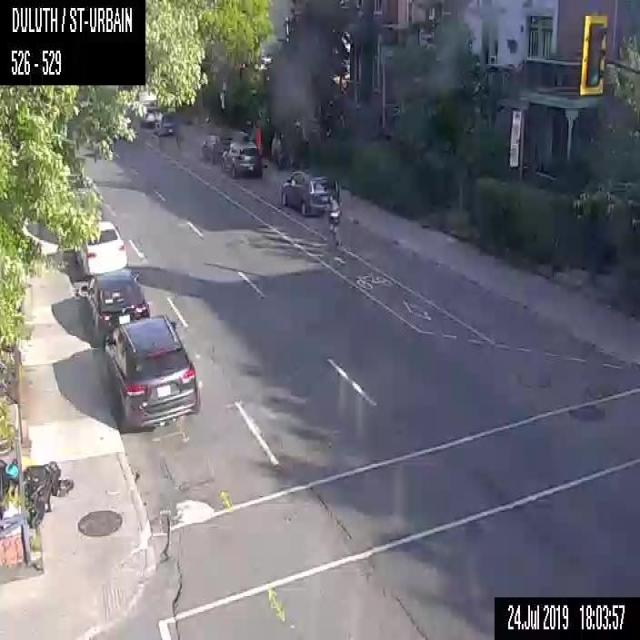construction: (252, 127, 262, 156)
cyclist: (324, 192, 344, 248)
vehicle: (104, 315, 197, 432), (77, 268, 149, 346), (278, 167, 338, 216), (75, 220, 126, 276), (220, 144, 262, 178), (200, 131, 232, 163), (154, 110, 176, 134)
